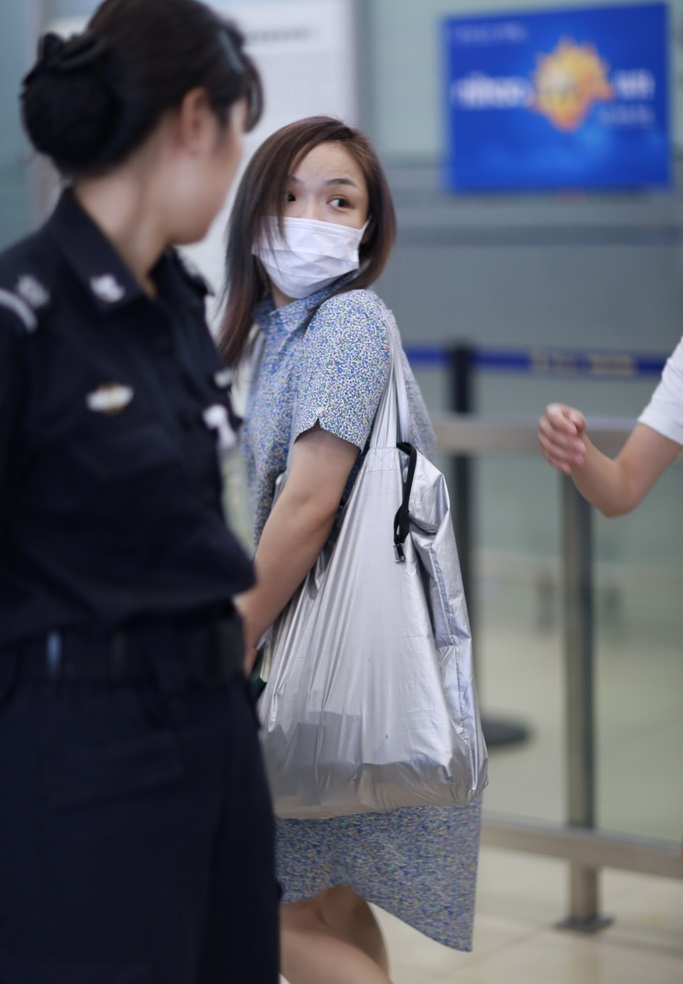face: (167, 71, 246, 245)
face_mask: (251, 139, 362, 300)
